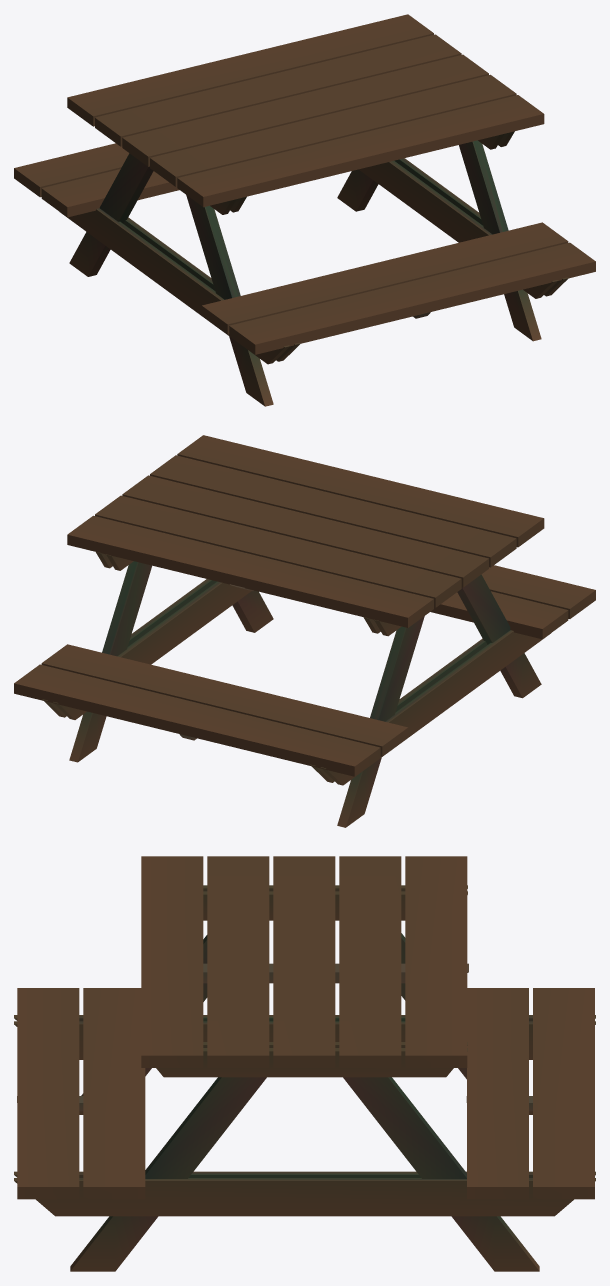
3 views of the same model, one above another, from view 1: azimuth 30°, elevation 25°; view 2: azimuth 150°, elevation 25°; view 3: azimuth 270°, elevation 25° (orthographic). The views are drawn at different scales.
Visible parts, largest first — view 1: splayed_leg.001, top_plank.001, seat_plank.001, seat_plank.002, top_plank.002, top_plank.003, top_plank.005, top_plank.004, splayed_leg, seat_plank.004, seat_plank.003; view 2: splayed_leg.001, seat_plank.004, top_plank.005, seat_plank.003, top_plank.001, top_plank.003, top_plank.004, top_plank.002, splayed_leg, seat_plank.001, seat_plank.002; view 3: splayed_leg, top_plank.001, top_plank.002, top_plank.003, top_plank.004, top_plank.005, seat_plank.001, seat_plank.004, seat_plank.003, seat_plank.002, splayed_leg.001.
Part boxes in pixels (<box>): splayed_leg.001: <box>60,153,300,406</box>; top_plank.001: <box>177,95,544,207</box>; seat_plank.001: <box>229,242,595,354</box>; seat_plank.002: <box>201,222,568,334</box>; top_plank.002: <box>150,74,516,186</box>; top_plank.003: <box>122,54,488,166</box>; top_plank.005: <box>67,14,433,126</box>; top_plank.004: <box>95,34,461,146</box>; splayed_leg: <box>337,131,568,341</box>; seat_plank.004: <box>14,143,129,197</box>; seat_plank.003: <box>41,169,179,217</box>; splayed_leg.001: <box>310,574,550,827</box>; seat_plank.004: <box>14,664,380,776</box>; top_plank.005: <box>67,515,433,627</box>; seat_plank.003: <box>41,644,408,756</box>; top_plank.001: <box>177,435,544,547</box>; top_plank.003: <box>122,475,488,587</box>; top_plank.004: <box>95,495,461,607</box>; top_plank.002: <box>150,455,516,567</box>; splayed_leg: <box>42,552,273,762</box>; seat_plank.001: <box>481,565,595,618</box>; seat_plank.002: <box>430,591,568,639</box>; splayed_leg: <box>14,1042,595,1271</box>; top_plank.001: <box>141,856,203,1067</box>; top_plank.002: <box>207,856,269,1067</box>; top_plank.003: <box>273,856,335,1067</box>; top_plank.004: <box>339,856,401,1067</box>; top_plank.005: <box>405,856,467,1067</box>; seat_plank.001: <box>17,988,79,1199</box>; seat_plank.004: <box>533,988,594,1199</box>; seat_plank.003: <box>467,988,528,1199</box>; seat_plank.002: <box>83,988,145,1199</box>; splayed_leg.001: <box>14,885,595,1114</box>.
Size of the model in its own units: 1.46 by 0.8005 by 1.8.
